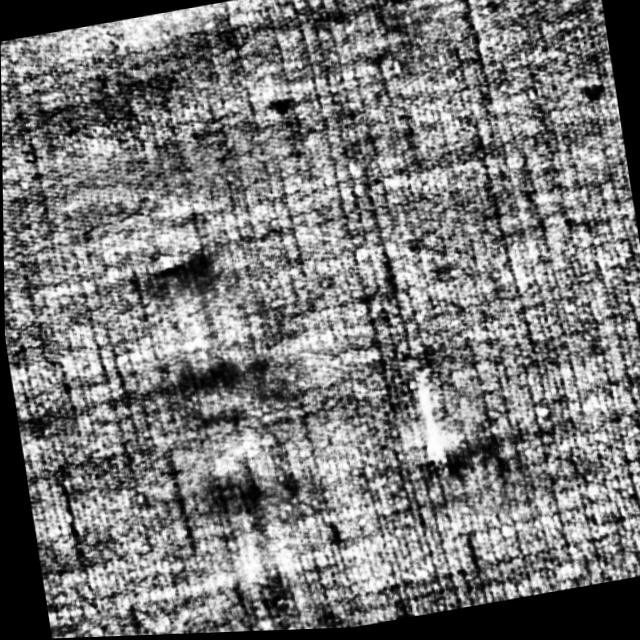Stitch: (130, 239, 325, 633), (392, 344, 497, 487)
